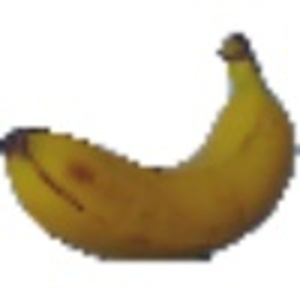banana: (2, 22, 298, 272)
